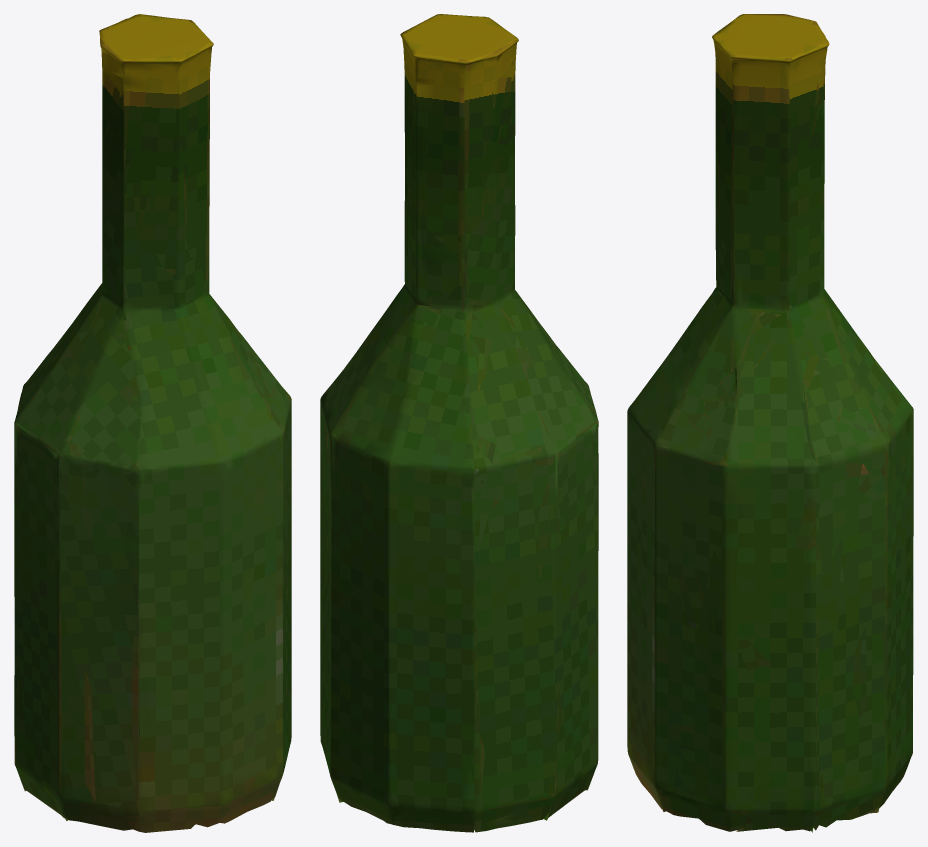
The model's file is tavern_bottle_04_psx.glb.
3 views of the same model, side by side, from view 1: azimuth 30°, elevation 25°; view 2: azimuth 150°, elevation 25°; view 3: azimuth 270°, elevation 25° (orthographic).
Visible parts, largest first — view 1: tavern_bottle_04_psx; view 2: tavern_bottle_04_psx; view 3: tavern_bottle_04_psx.
Boxes of the visible parts, x1,y1,x2,y2 form: tavern_bottle_04_psx: (14, 14, 291, 832); tavern_bottle_04_psx: (320, 14, 598, 832); tavern_bottle_04_psx: (627, 14, 913, 832).
Bounding box in the file's own units: 0.1201 × 0.3633 × 0.1266.
1 material, 1 textured.
